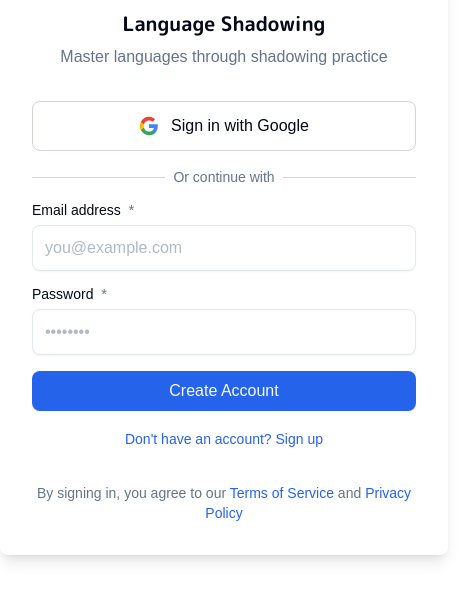
Test case: SignInPage - Sign Up Flow › Google Sign Up › should display error message on Google sign up failure
What coordinates should you click on to do the following:
click the link "Don't have an account? Sign up"
I would click on:
 (224, 439)
Its box is [125,431,323,447].
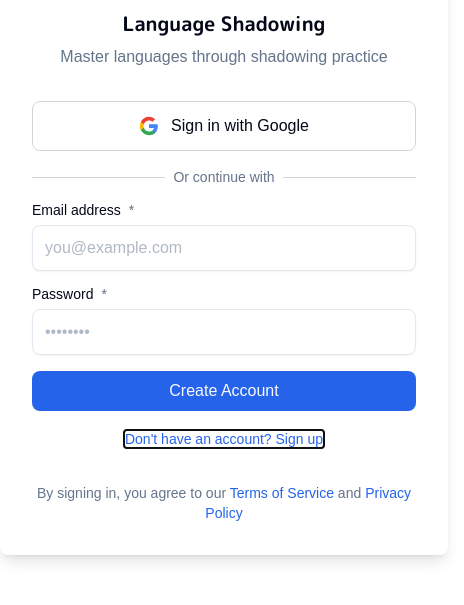
What coordinates should you click on to do the following:
click the button "Sign in with Google"
I would click on:
 (224, 126)
Its box is [32,101,416,151].
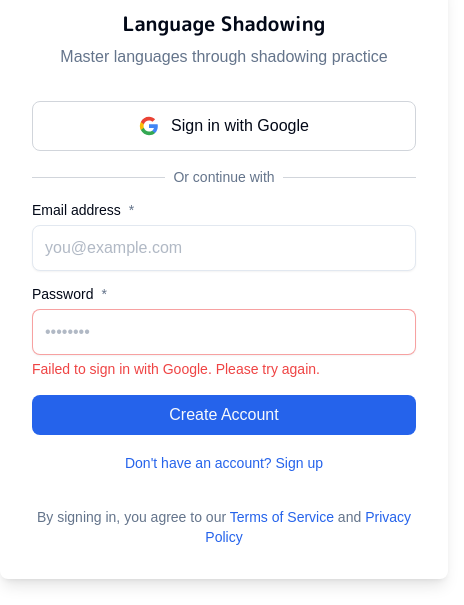
Check: the text "Failed to sign in with Google. Please try again." is shown, box [32,361,320,377]
